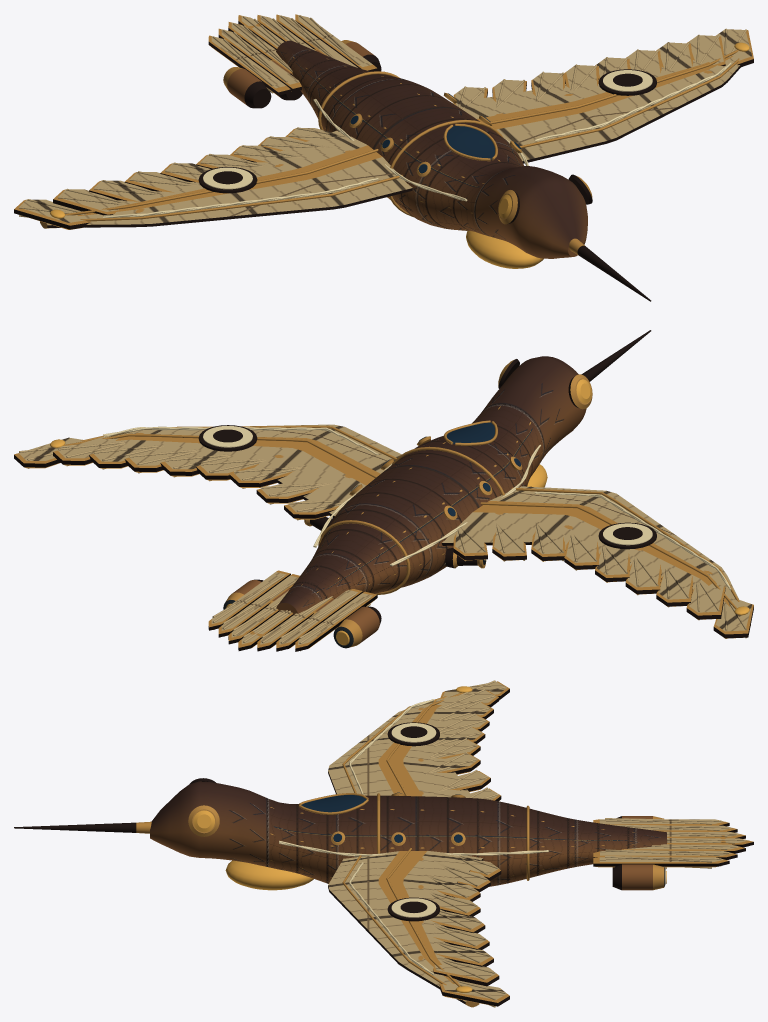
The picture shows the model from 3 angles, top to bottom: view 1: azimuth 30°, elevation 25°; view 2: azimuth 150°, elevation 25°; view 3: azimuth 270°, elevation 25°; orthographic projection. The views are drawn at different scales.
Visible parts, largest first — view 1: hummingbird_hull; view 2: hummingbird_hull; view 3: hummingbird_hull.
Boxes of the visible parts, x1,y1,x2,y2 form: hummingbird_hull: (14, 14, 753, 301); hummingbird_hull: (14, 330, 753, 651); hummingbird_hull: (14, 680, 753, 1007).
Bounding box in the file's own units: 17 × 2.49 × 16.53.
1 material, 1 textured.
